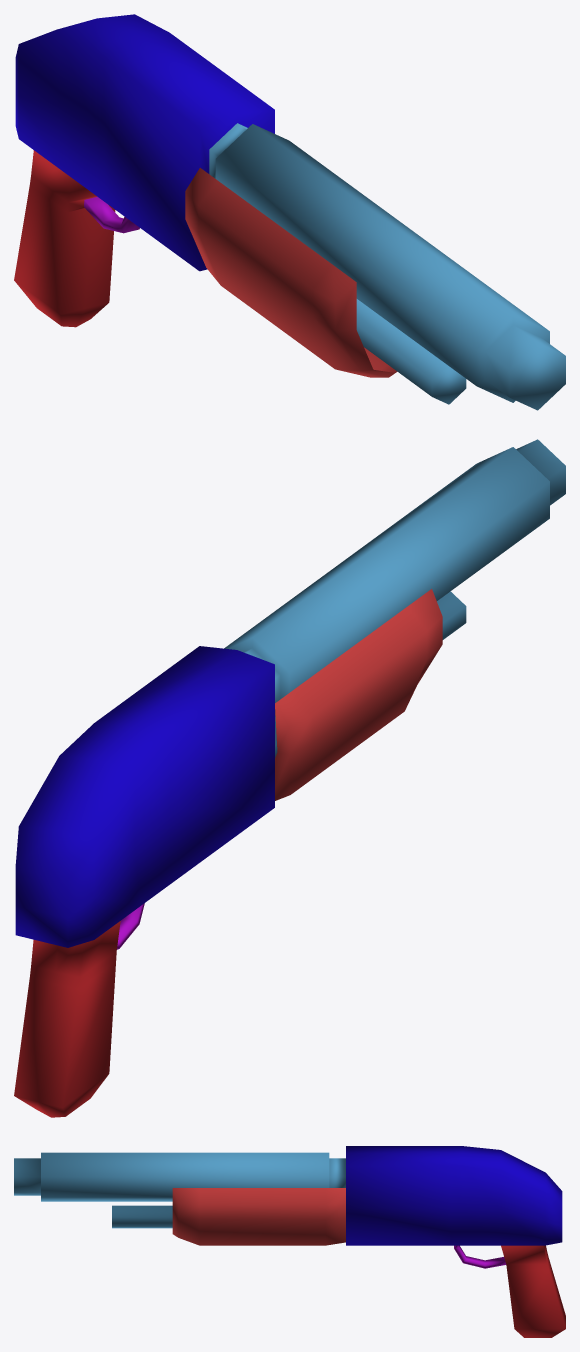
File: gun_shotgun.fbx
3 views of the same model, one above another, from view 1: azimuth 30°, elevation 25°; view 2: azimuth 150°, elevation 25°; view 3: azimuth 270°, elevation 25° (orthographic). The views are drawn at different scales.
Parts seen in each view (by area): view 1: Shotgun; view 2: Shotgun; view 3: Shotgun.
Part boxes in pixels (box(x1,y1,x2,y2)): Shotgun: box(14, 14, 565, 410); Shotgun: box(14, 439, 565, 1117); Shotgun: box(14, 1146, 565, 1337).
Size of the model in its own units: 16.26 by 45.24 by 123.
